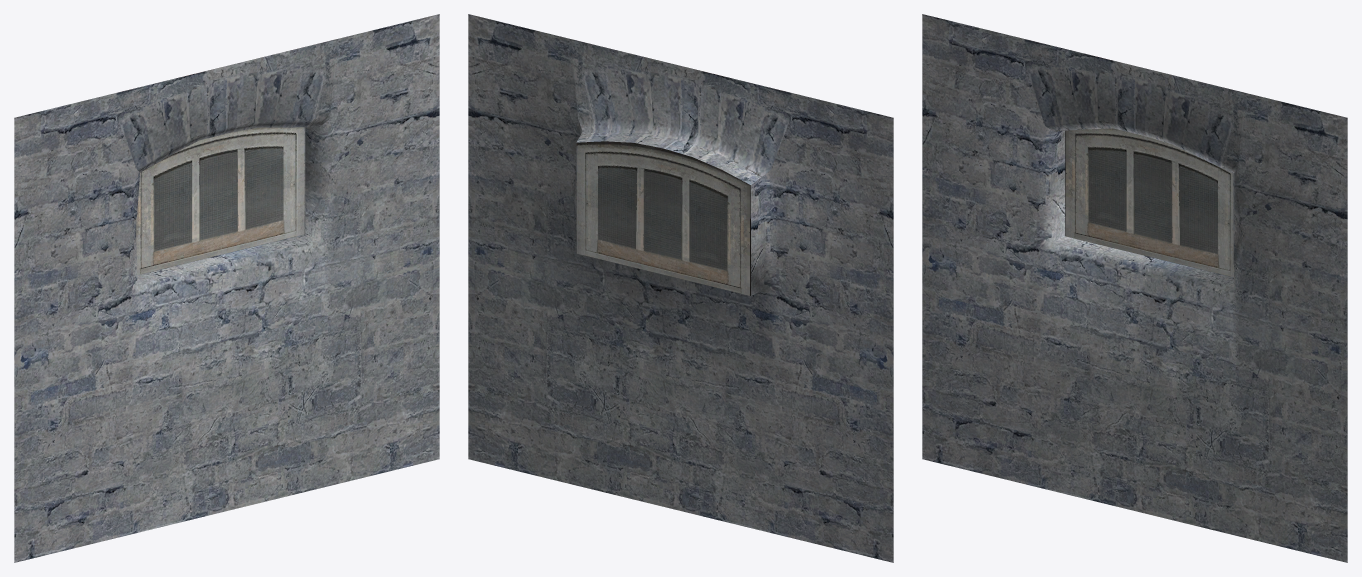
The model's file is factory_corridor_02_white.DAE.
The picture shows the model from 3 angles, left to right: view 1: azimuth 30°, elevation 25°; view 2: azimuth 150°, elevation 25°; view 3: azimuth 330°, elevation 25°; orthographic projection.
Visible parts, largest first — view 1: Object047, Object048; view 2: Object047, Object048; view 3: Object047, Object048.
Part boxes in pixels (x1=…): Object047: x1=14, y1=14, x2=439, y2=562; Object048: x1=108, y1=39, x2=336, y2=274; Object047: x1=468, y1=14, x2=893, y2=562; Object048: x1=571, y1=39, x2=799, y2=295; Object047: x1=922, y1=14, x2=1347, y2=562; Object048: x1=1016, y1=37, x2=1244, y2=277.
Size of the model in its own units: 4 by 4 by 0.2153.
